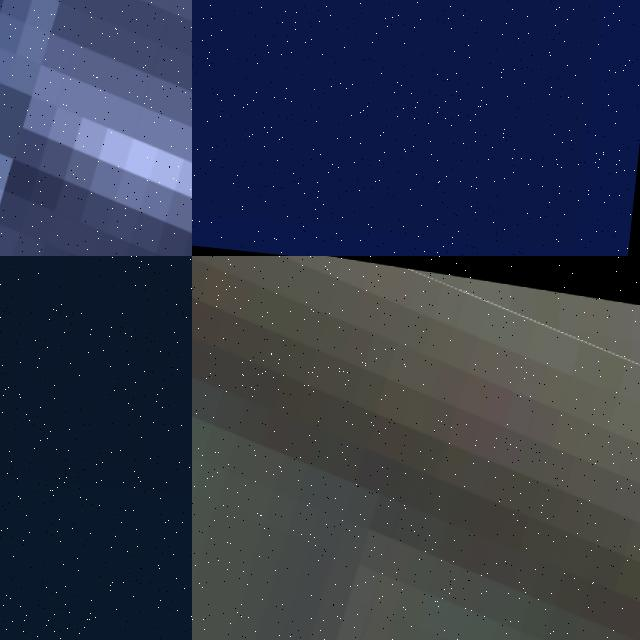0: (0, 0, 192, 256)
drone: (192, 256, 640, 640)
